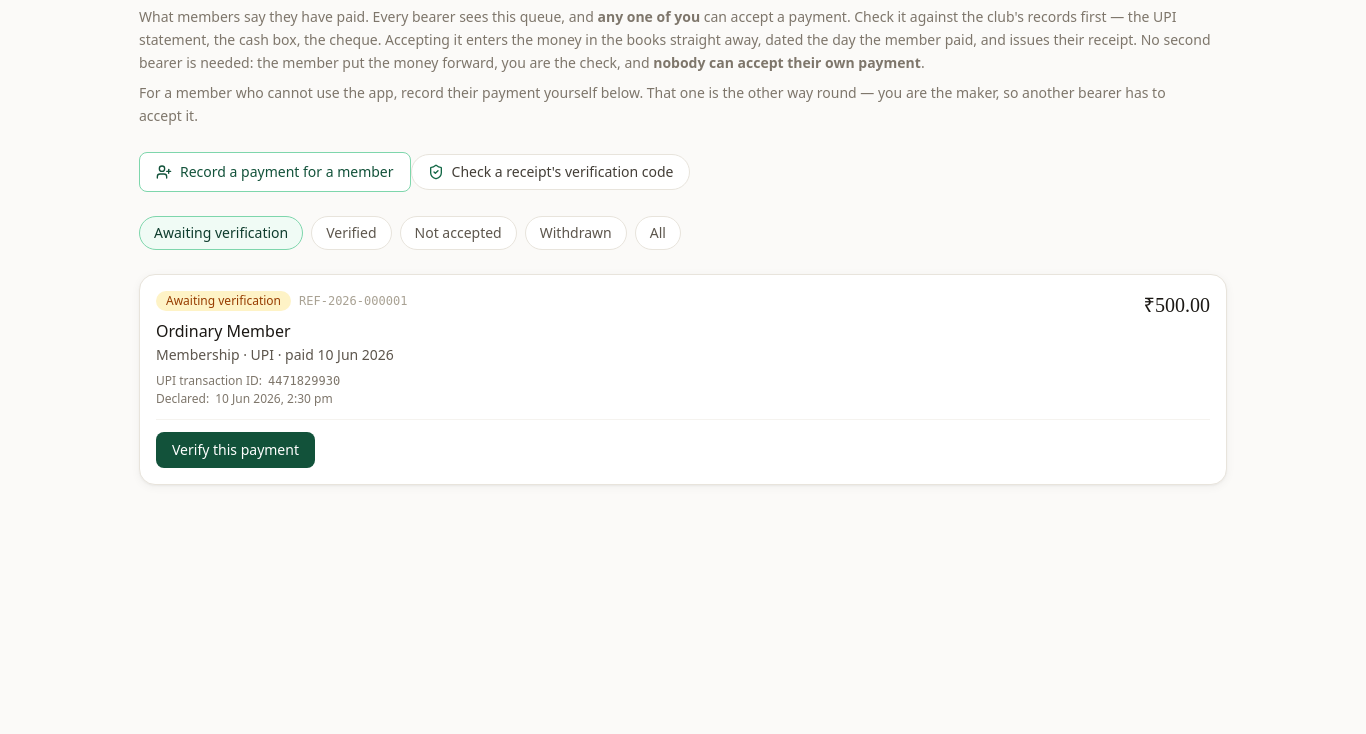
Scenario: the officers’ queue › will not record anything without a fund and a category
Click the button "Verify this payment" at (236, 450), box [156,432,315,468]
(page scrolled)
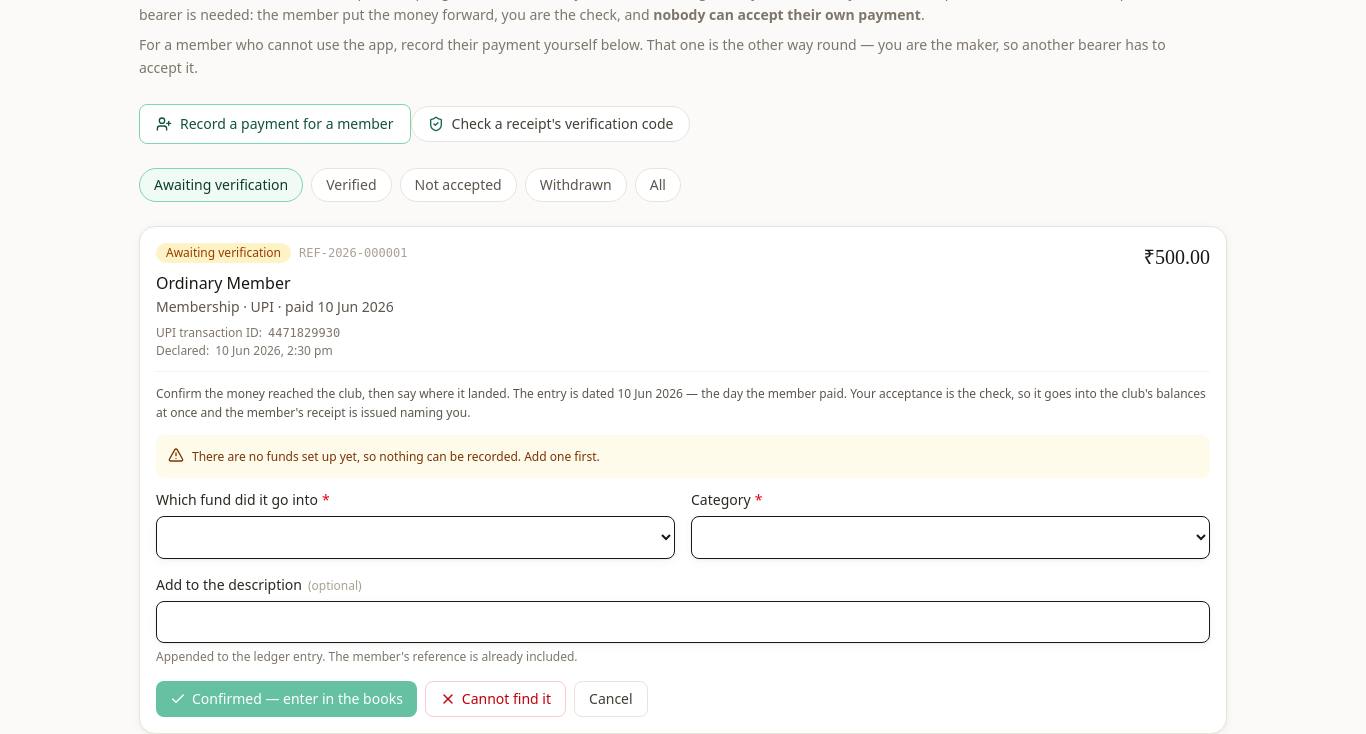
Expected: the text "no funds set up yet" is shown, [192,448,600,465]
Expected: the button "Confirmed — enter in the books" is disabled, [156,681,417,717]
